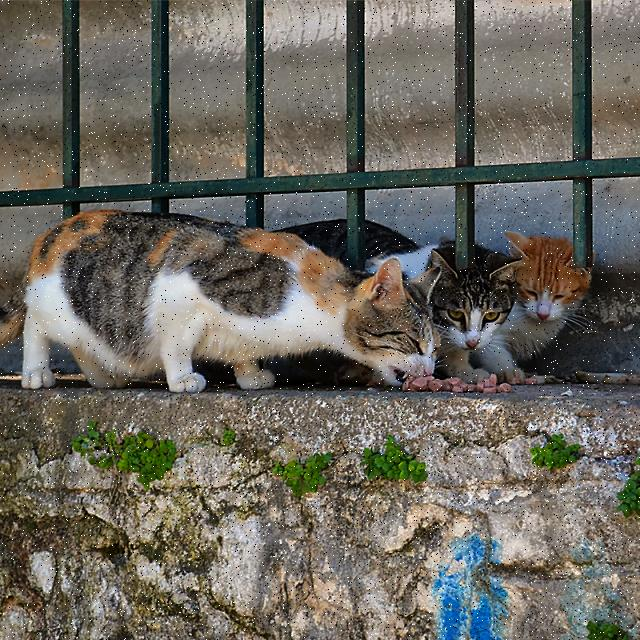cat: (0, 210, 439, 392), (365, 221, 519, 381), (471, 231, 591, 382), (284, 220, 345, 261)
